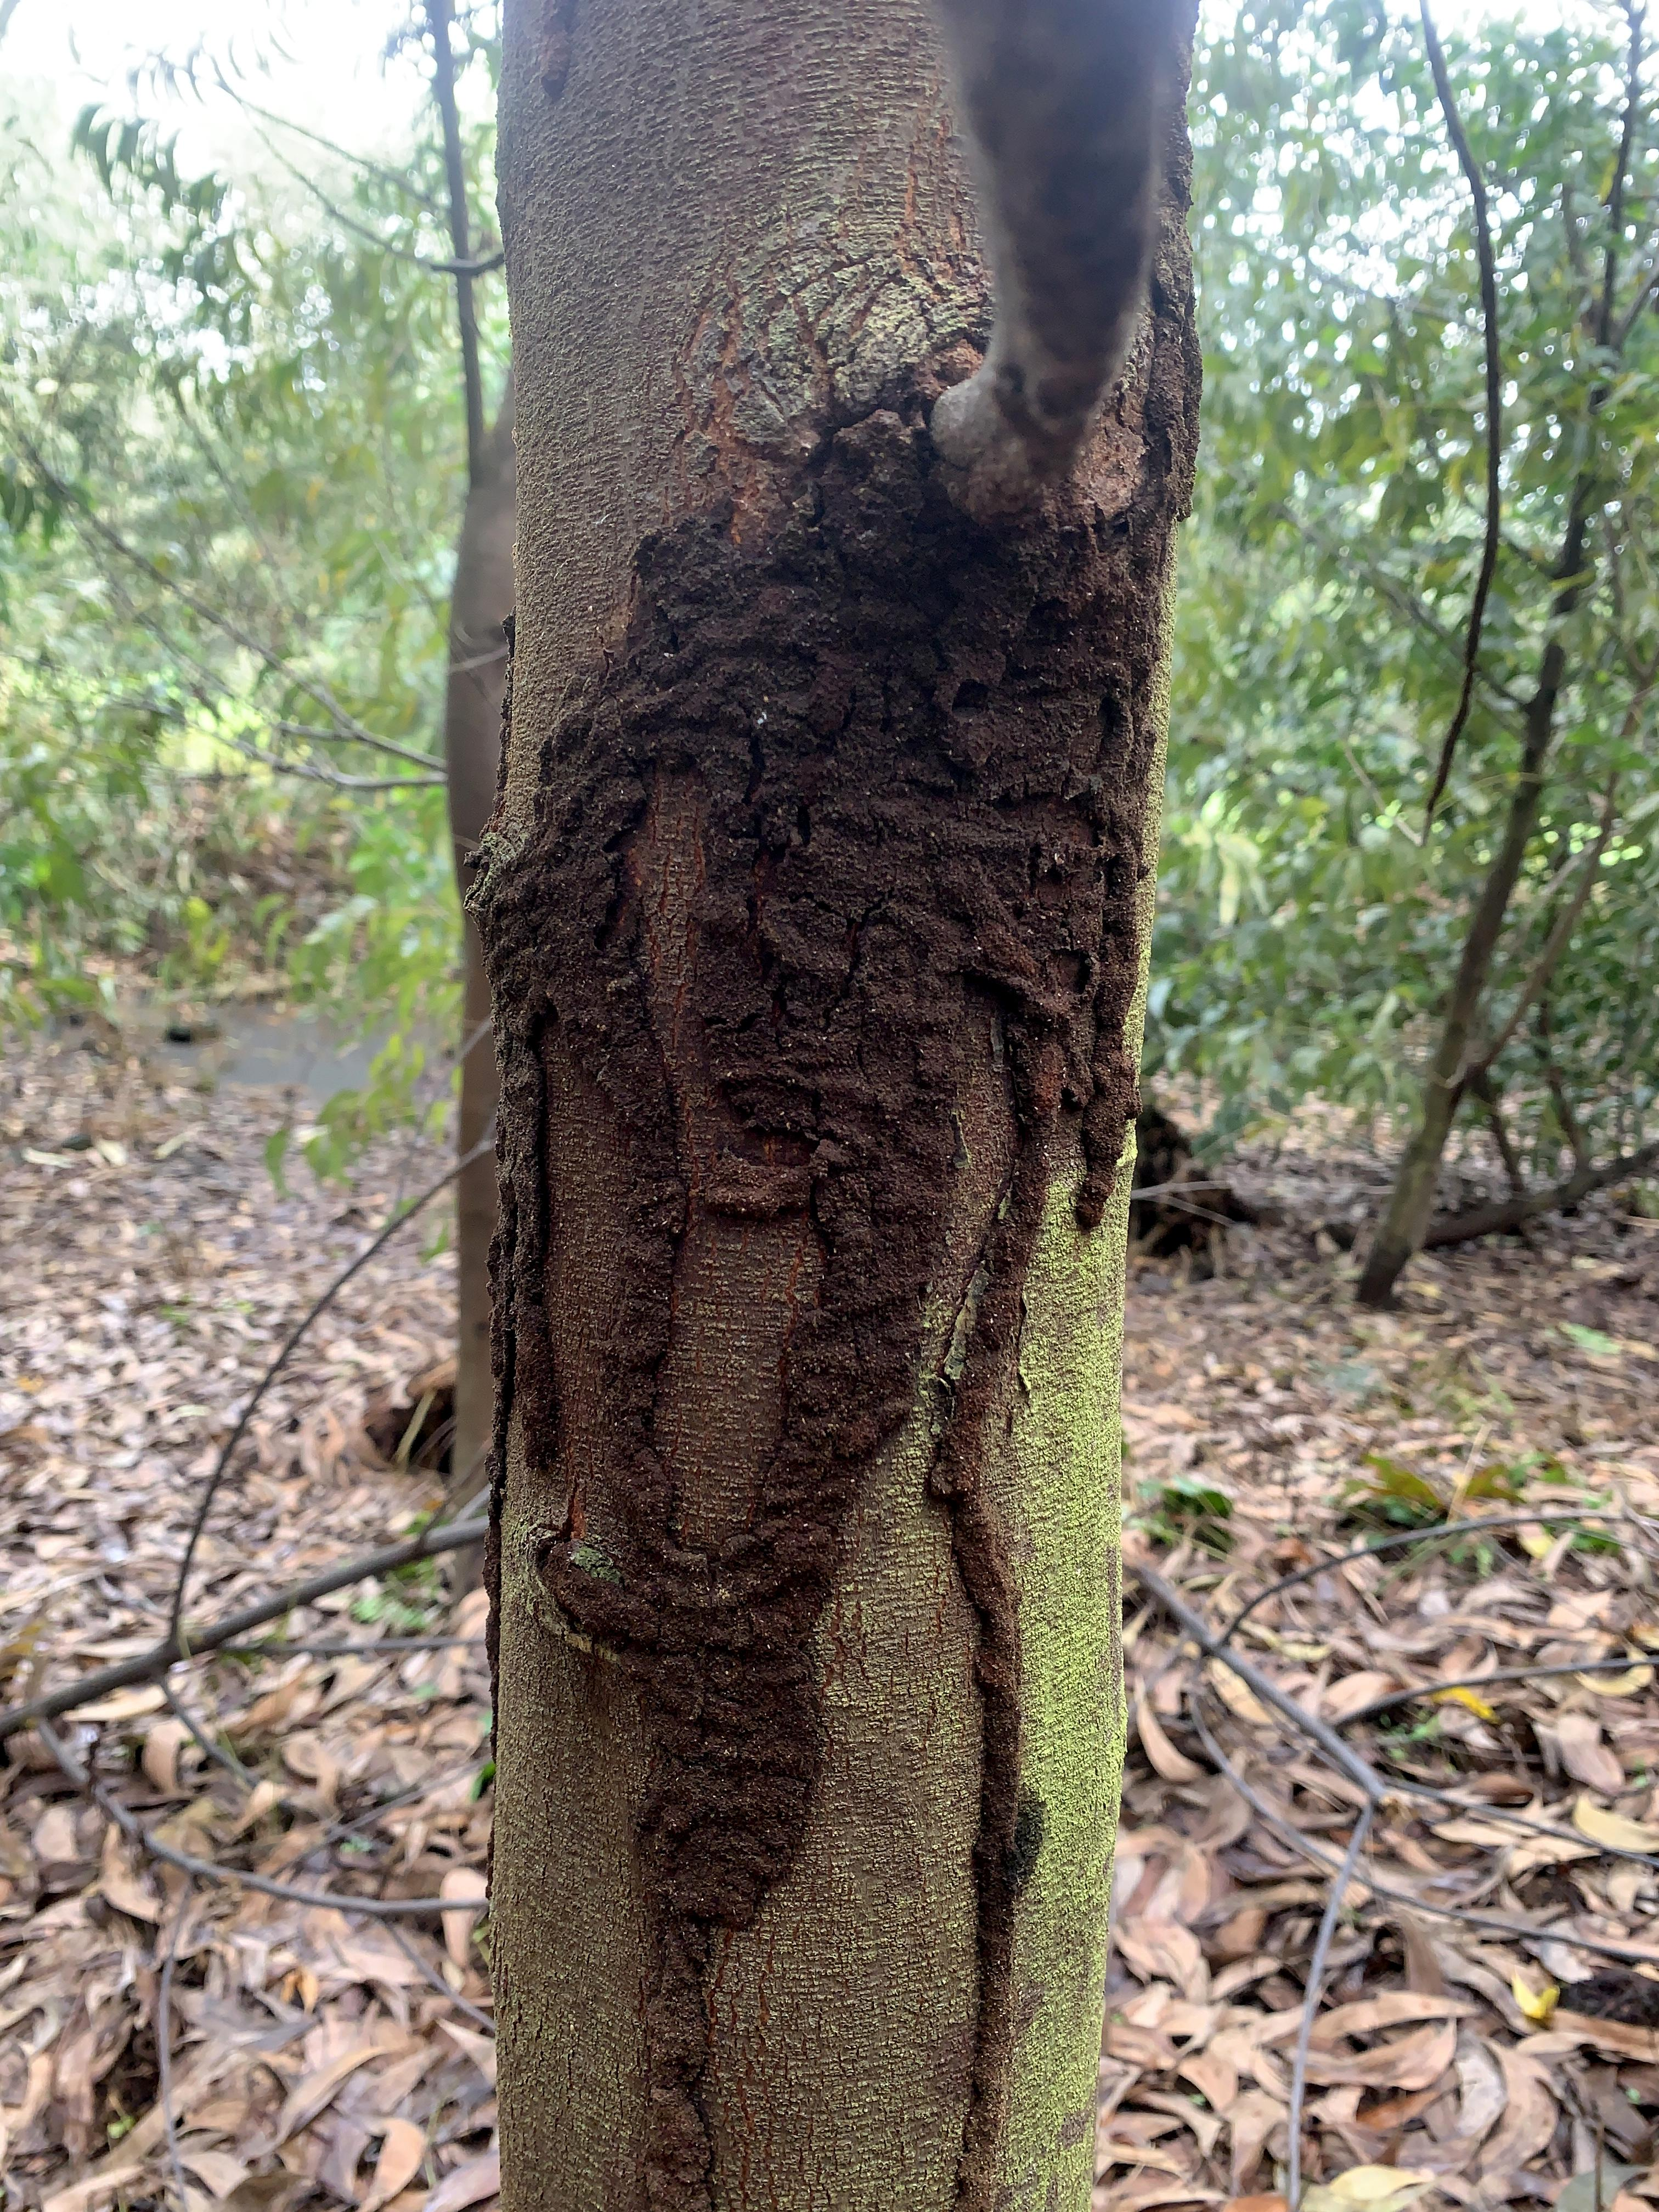Termite - Nest: (505, 395, 1192, 2212)
